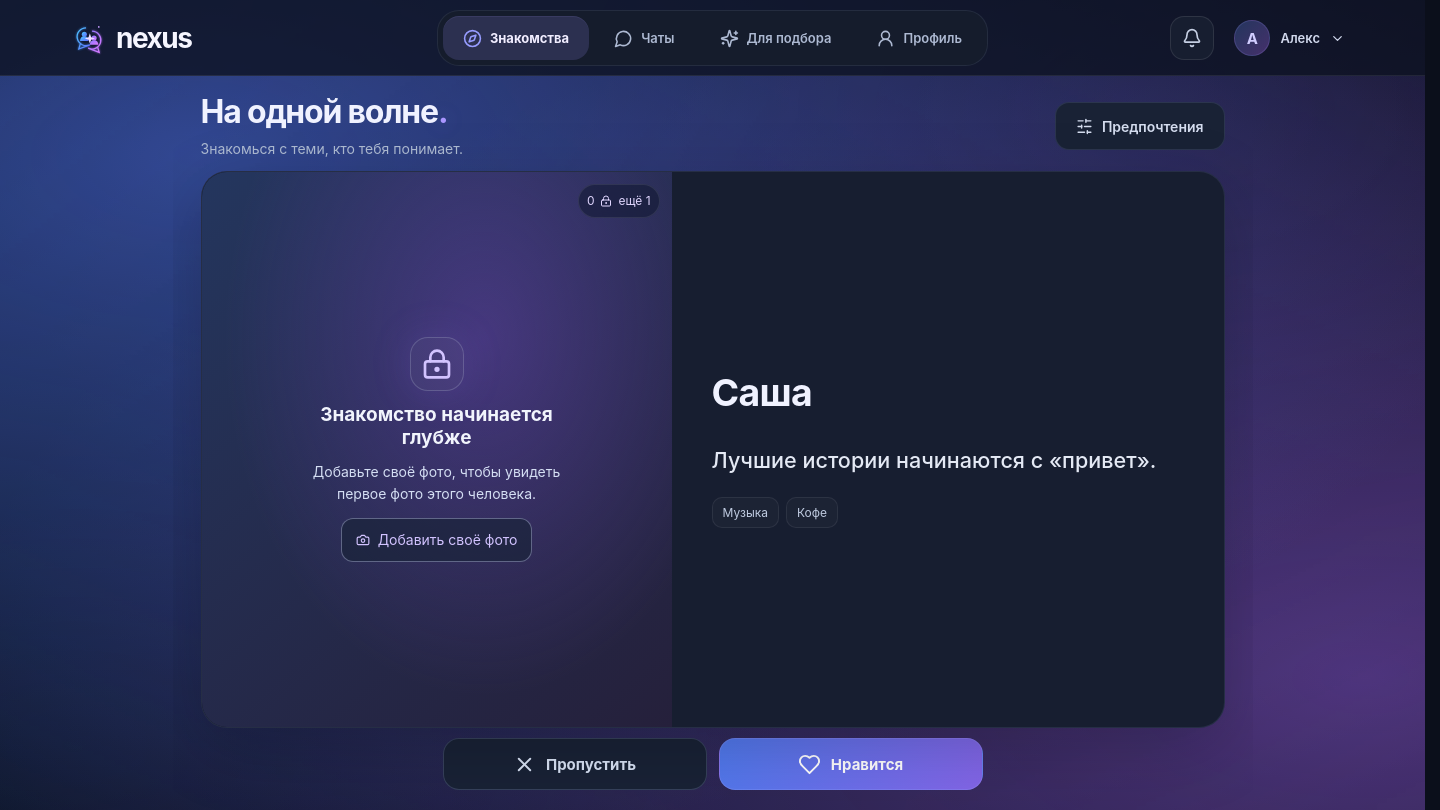
Nexus user flows › opens a match and sends plain text to its API
The image size is (1440, 810).
Click the button "Чаты" at coordinates (644, 38), box [594,16,694,60]
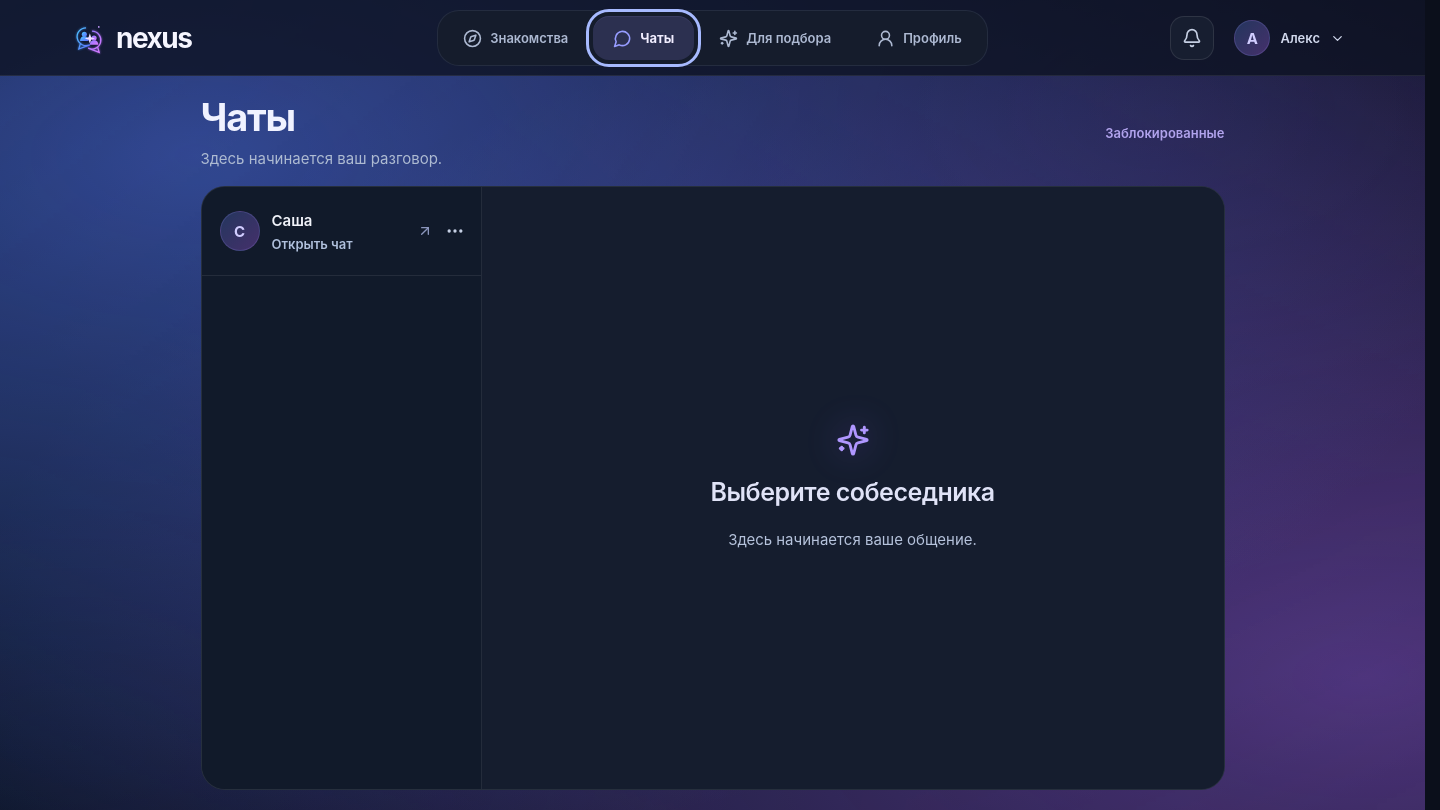
Click the button "С Саша Открыть чат" at coordinates (319, 231), box [202,187,436,275]
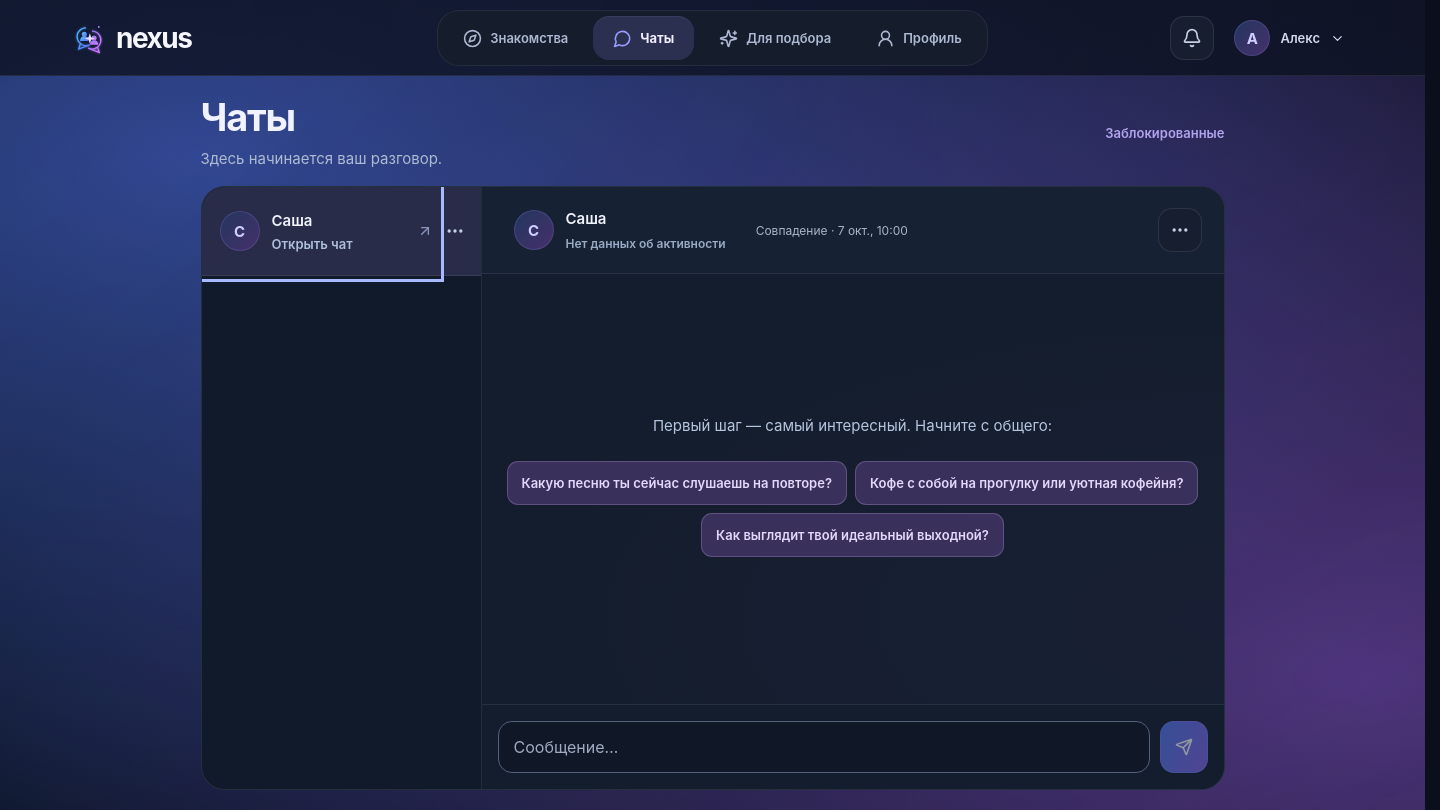
Type "Привет, Саша!" into the field labelled "Сообщение" at coordinates (824, 747), box [498,721,1150,773]
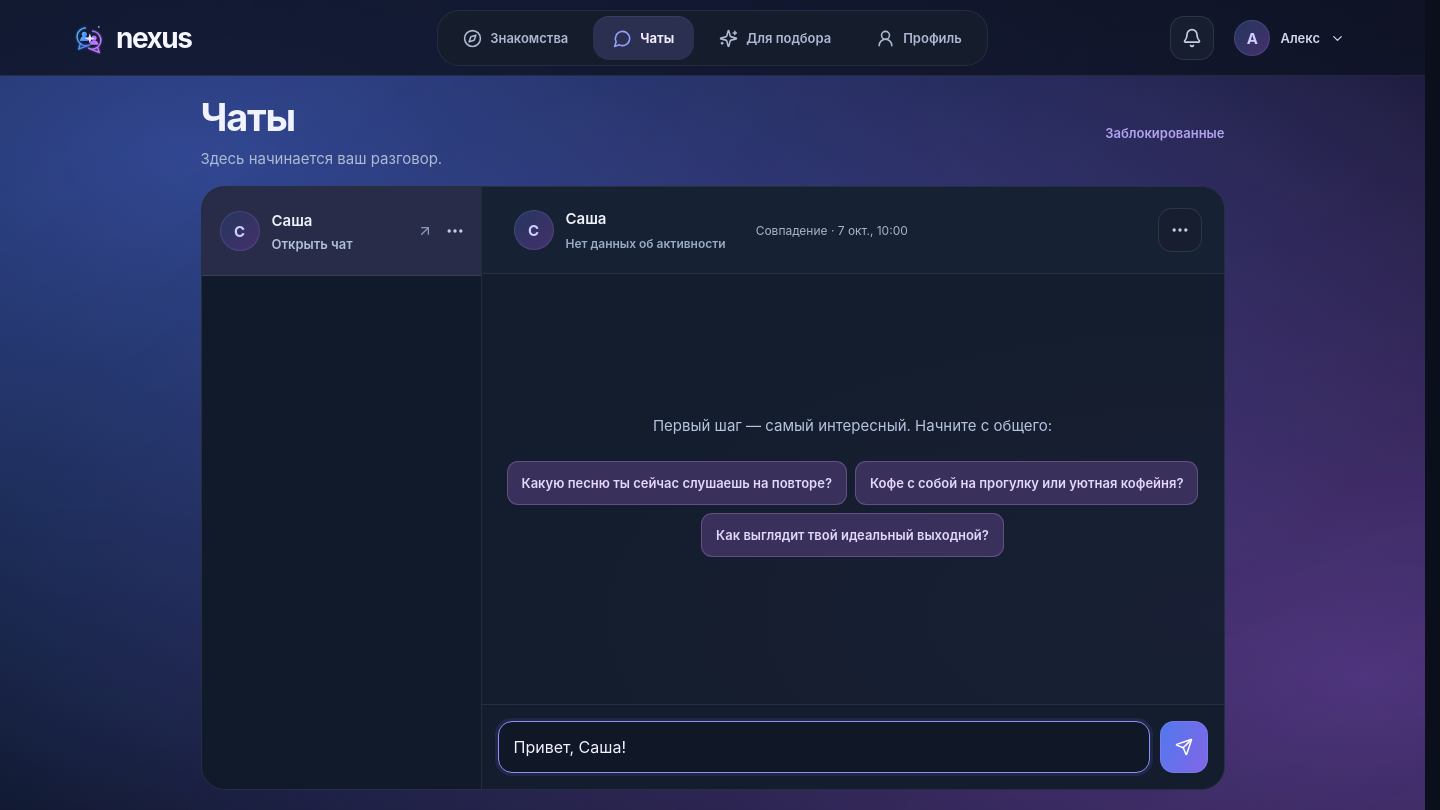
Click the button named "Отправить сообщение" at coordinates (1184, 747), box [1160,721,1208,773]
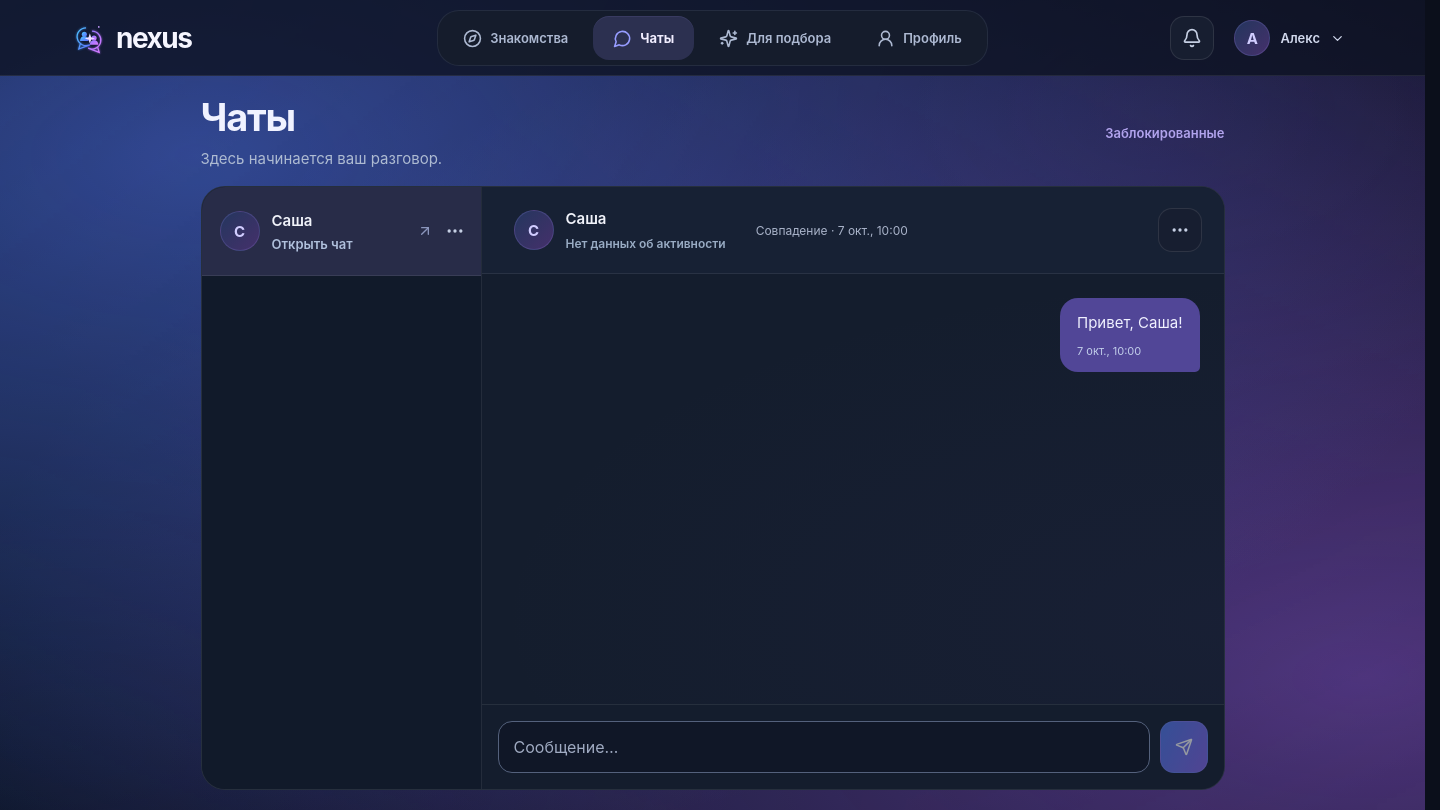
Now the text "Привет, Саша!" is shown, box [1077,311,1182,334]
